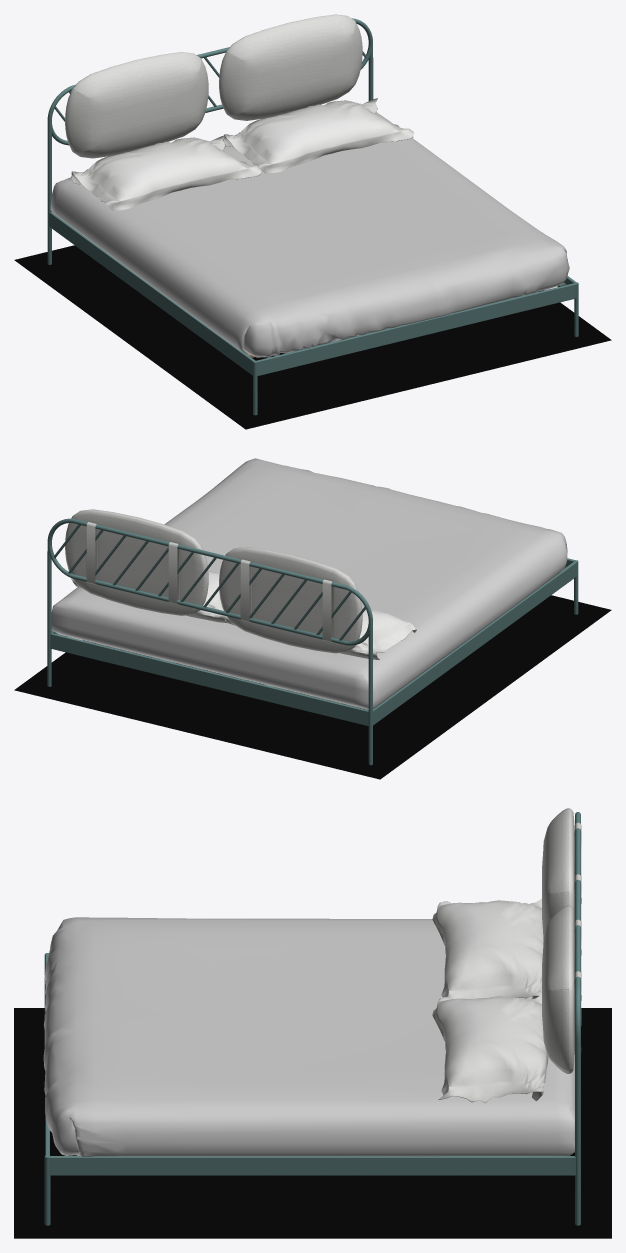
File: Toffee_Bed.fbx
3 renders of one model, top to bottom at view 1: azimuth 30°, elevation 25°; view 2: azimuth 150°, elevation 25°; view 3: azimuth 270°, elevation 25°, orthographic. The views are drawn at different scales.
Visible parts, largest first — view 1: 对象030, Plane001, Group001, 对象032, 对象039; view 2: 对象030, Plane001, Group001, 对象039, 对象032; view 3: 对象030, Plane001, 对象032, 对象039, Group001.
Part boxes in pixels (left/top/right/bottom): 对象030: left=50, top=112, right=569, bottom=357; Plane001: left=14, top=245, right=611, bottom=429; Group001: left=65, top=14, right=362, bottom=357; 对象032: left=71, top=98, right=413, bottom=210; 对象039: left=47, top=18, right=578, bottom=415; 对象030: left=51, top=458, right=567, bottom=709; Plane001: left=14, top=595, right=611, bottom=779; Group001: left=65, top=509, right=362, bottom=653; 对象039: left=47, top=518, right=578, bottom=765; 对象032: left=71, top=571, right=416, bottom=659; 对象030: left=43, top=917, right=574, bottom=1156; Plane001: left=14, top=1008, right=611, bottom=1238; 对象032: left=432, top=898, right=548, bottom=1103; 对象039: left=44, top=812, right=580, bottom=1225; Group001: left=77, top=808, right=581, bottom=1155.
Bounding box in the file's own units: 2104 × 1023 × 2306.
